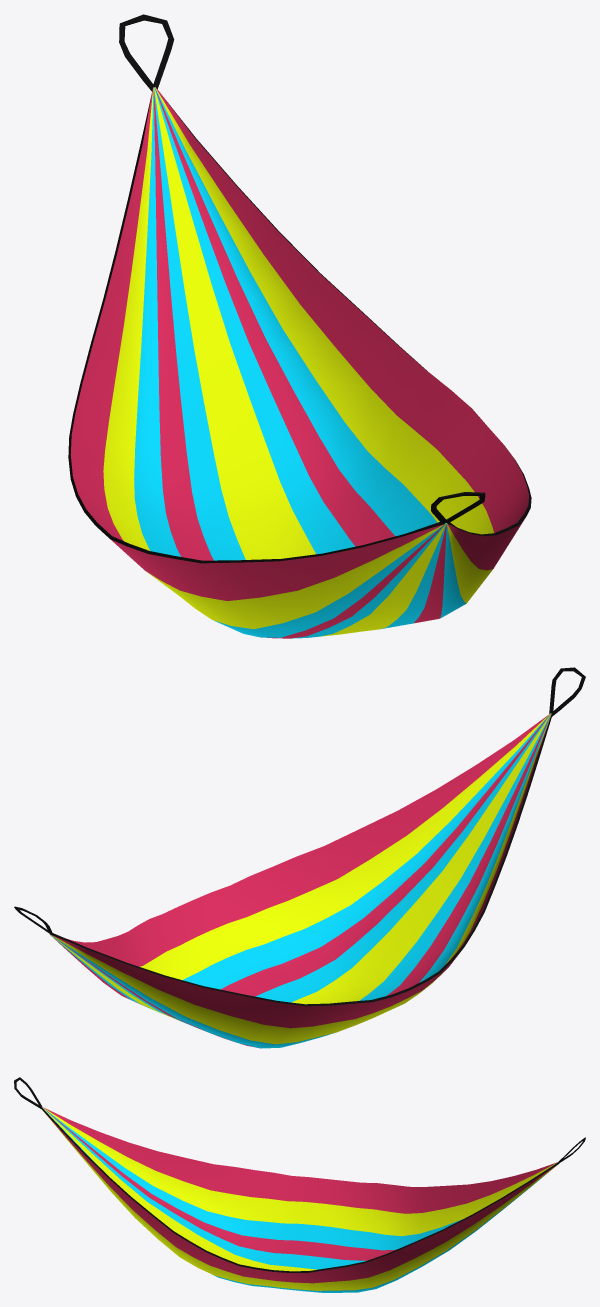
File: Hammock.obj
The picture shows the model from 3 angles, top to bottom: view 1: azimuth 30°, elevation 25°; view 2: azimuth 150°, elevation 25°; view 3: azimuth 270°, elevation 25°; orthographic projection. The views are drawn at different scales.
Visible parts, largest first — view 1: Plane004, Box003; view 2: Plane004, Box004; view 3: Plane004.
Part boxes in pixels (x1,y1,x2,y2): Plane004: (68, 87, 531, 638); Box003: (119, 14, 174, 91); Plane004: (49, 713, 551, 1048); Box004: (549, 667, 585, 716); Plane004: (41, 1107, 559, 1292).
Bounding box in the file's own units: 218279 × 178072 × 542716.
